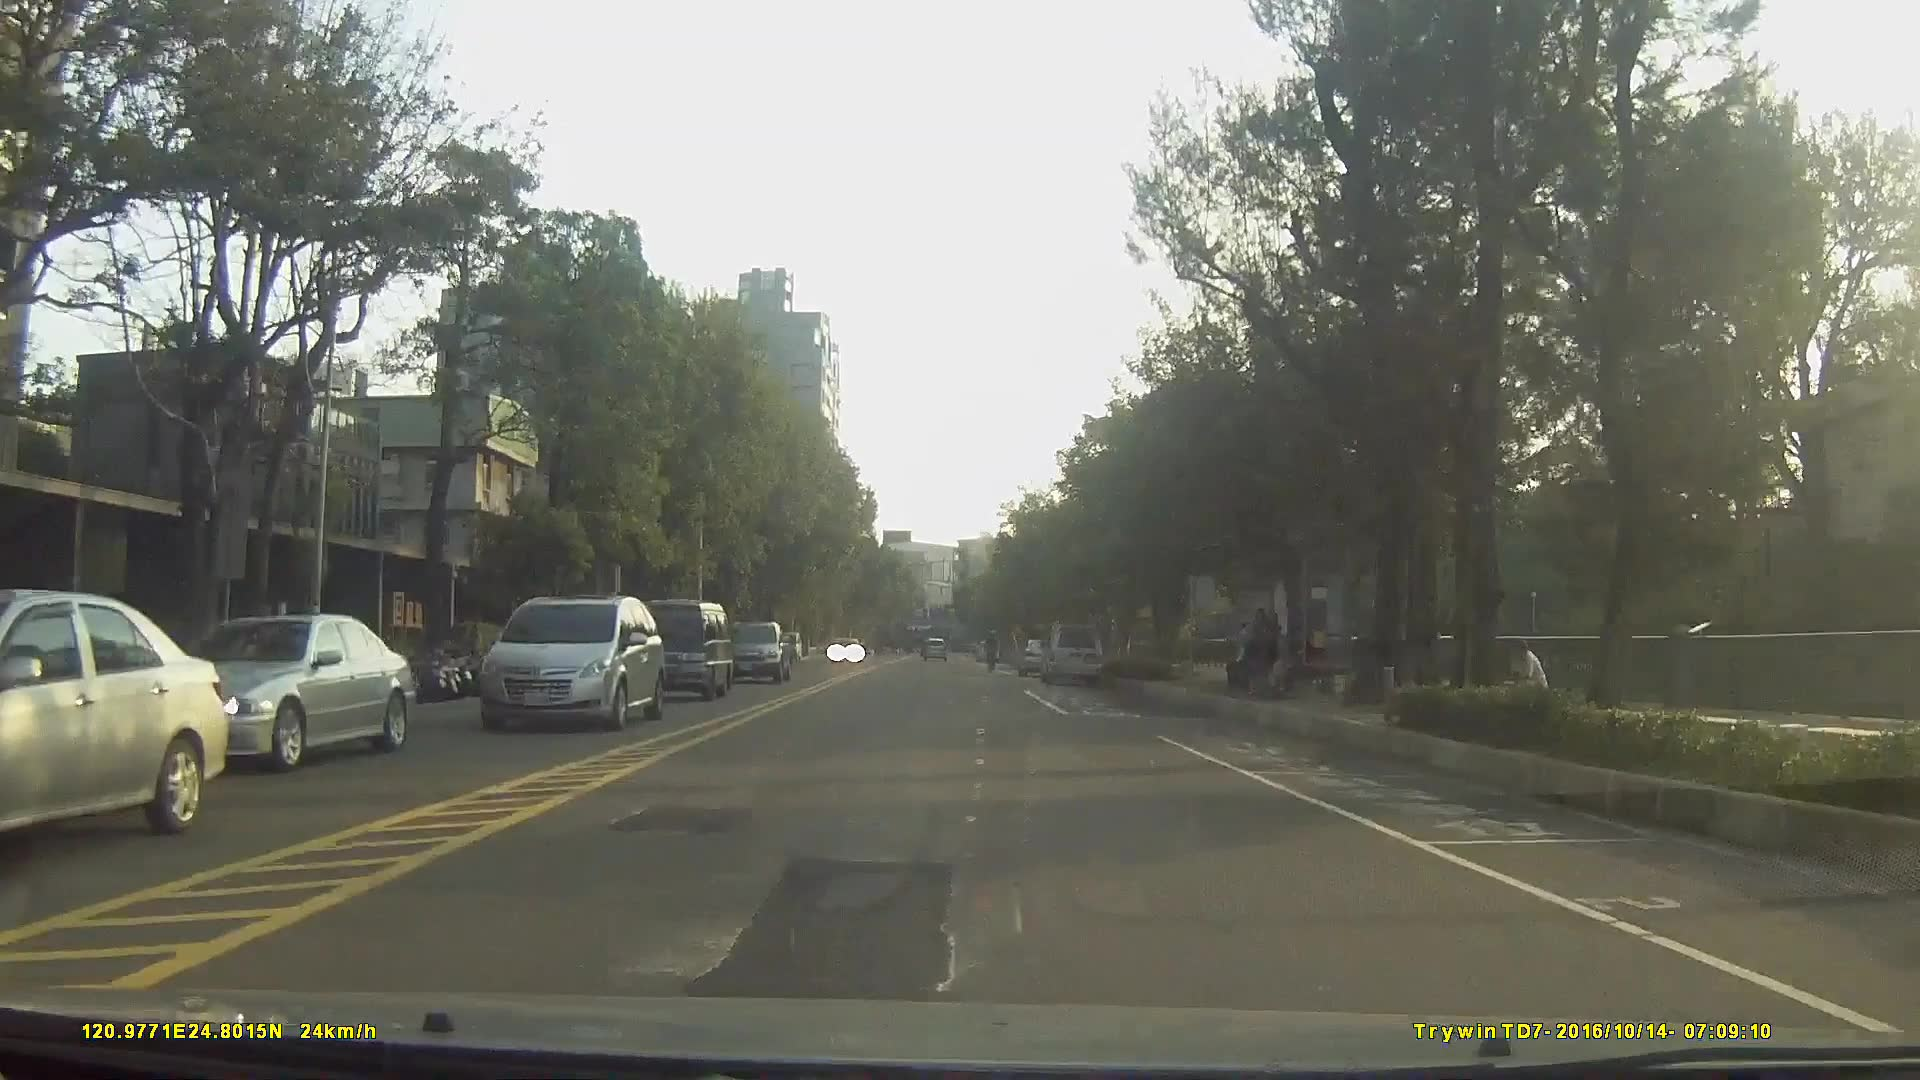pedestrian: (1224, 621, 1258, 700)
rider: (982, 630, 1002, 676)
vehicle: (0, 586, 228, 839), (142, 614, 416, 772), (476, 596, 663, 733), (625, 597, 733, 699), (715, 618, 788, 681), (1038, 622, 1103, 686), (1017, 640, 1060, 682), (917, 638, 949, 663)
